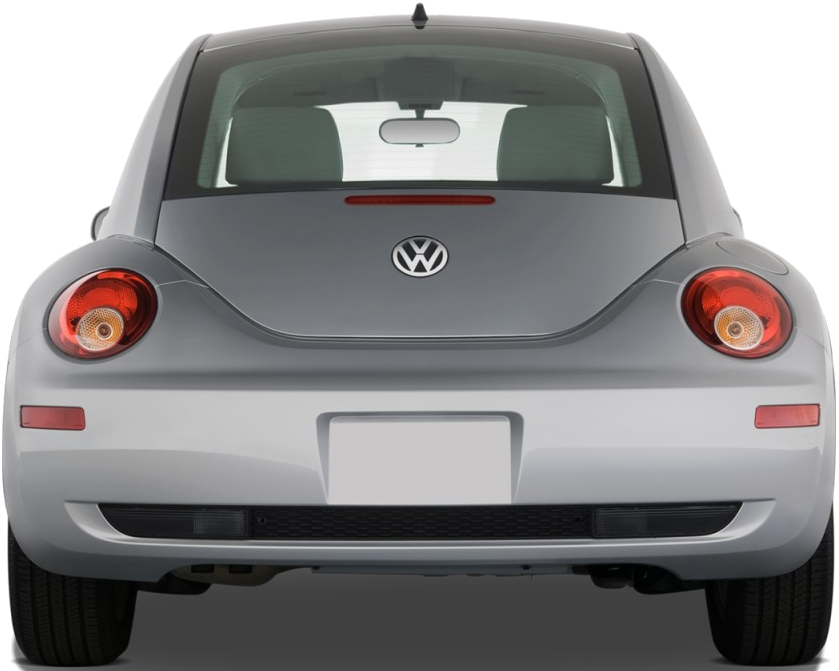P1_: (542, 414, 551, 424)
bbox: (300, 412, 542, 504)
